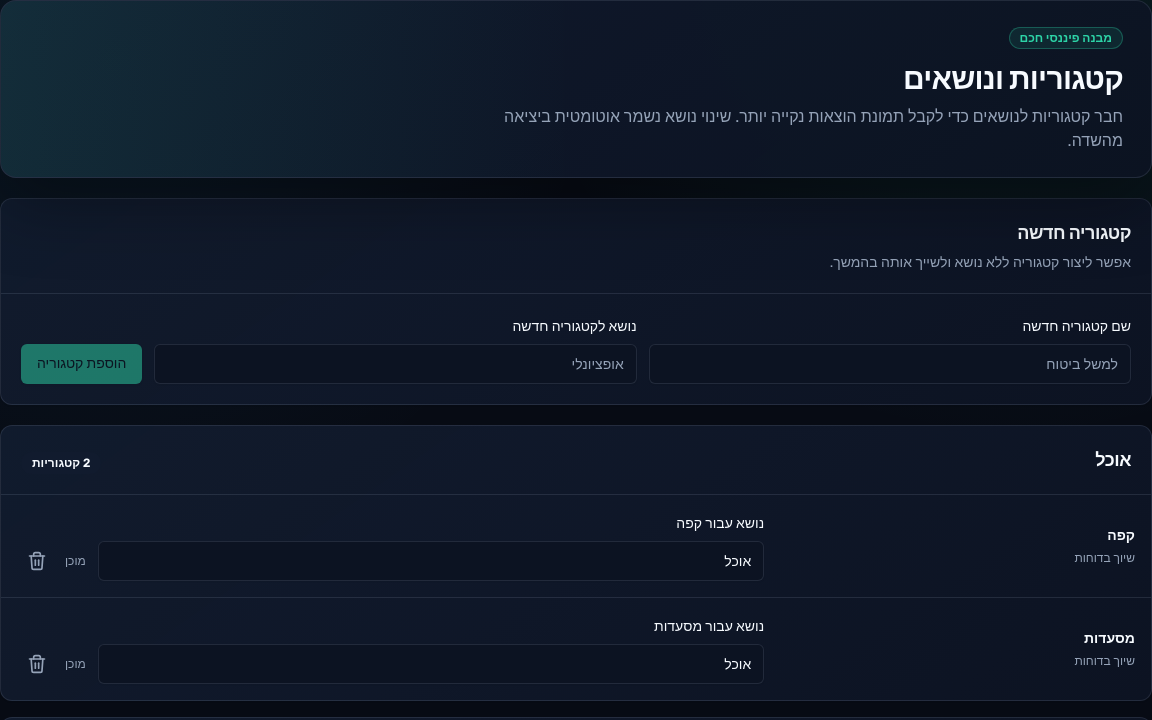
Test: locks deletion while pending and closes only after the single request resolves
The width and height of the screenshot is (1152, 720).
Click the button named "מחיקת קפה": (37, 561) [17,541,57,581]
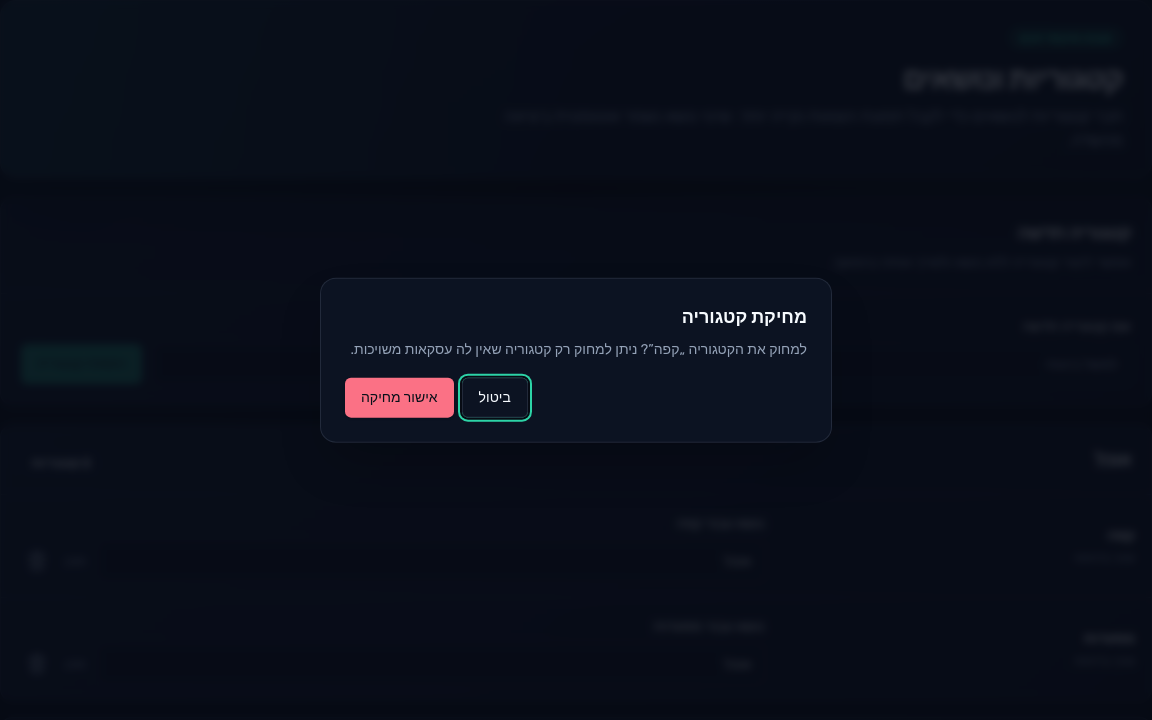
Click the button "אישור מחיקה": (399, 397) [345,377,454,417]
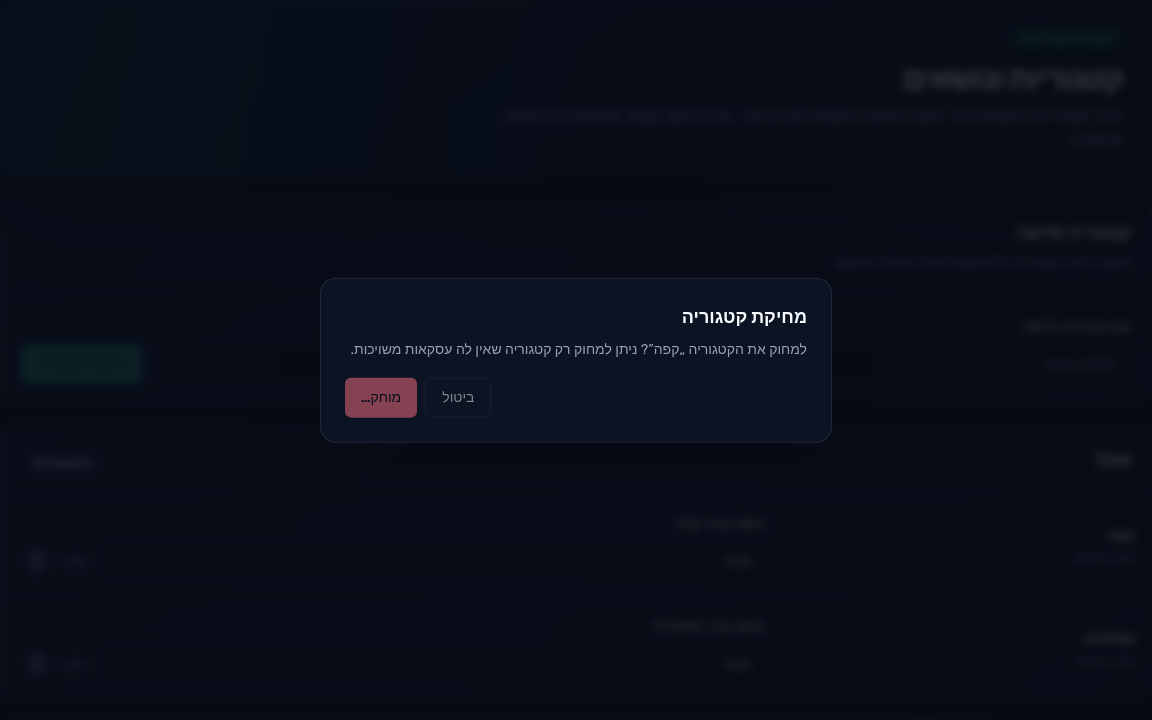
Expected: the button "מוחק…" is disabled
Click the button "מוחק…": (381, 397) [345,377,417,417]
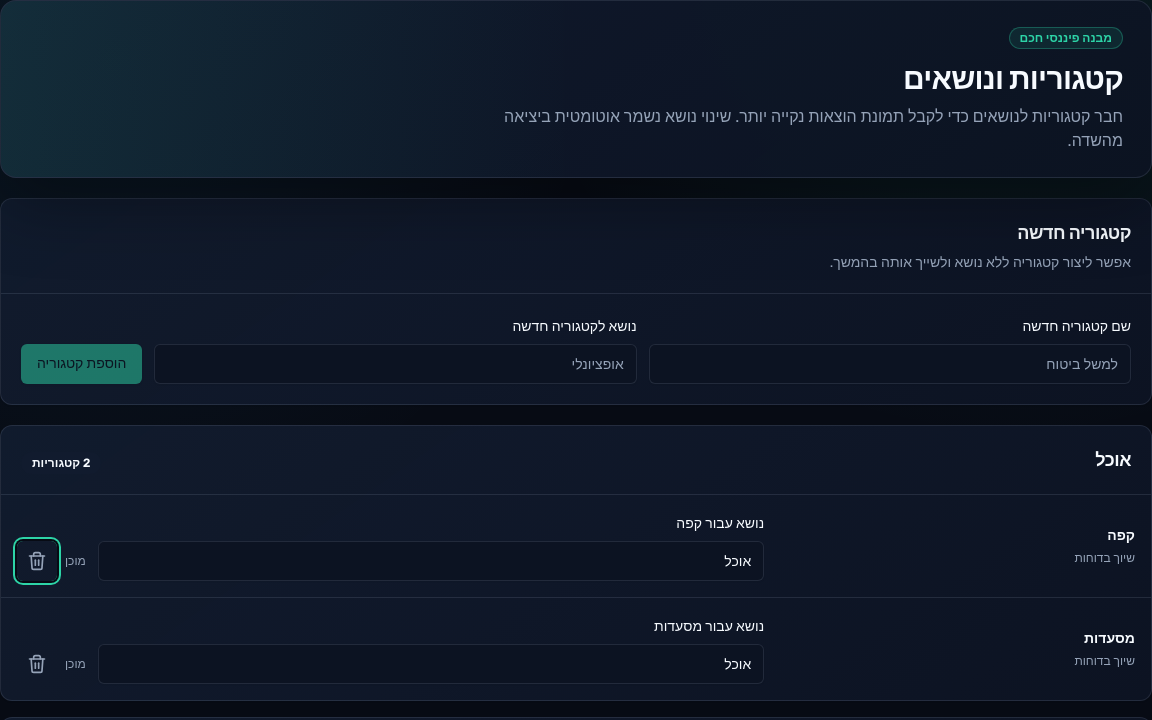
Expected: the heading "מחיקת קטגוריה" is gone
